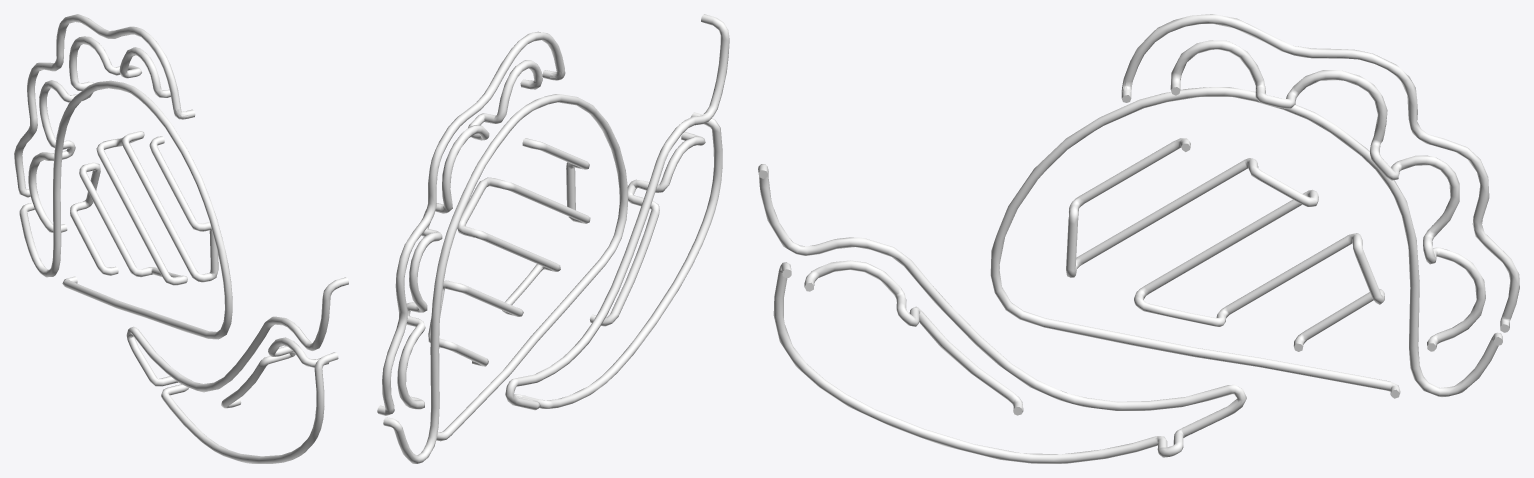
The model's file is SM_LED_Mexicanledfood_01a.fbx.
3 views of the same model, side by side, from view 1: azimuth 30°, elevation 25°; view 2: azimuth 150°, elevation 25°; view 3: azimuth 270°, elevation 25° (orthographic). The views are drawn at different scales.
Parts seen in each view (by area): view 1: SM_LED_Mexicanledfood_01a_LOD0; view 2: SM_LED_Mexicanledfood_01a_LOD0; view 3: SM_LED_Mexicanledfood_01a_LOD0.
Boxes of the visible parts, <box> form: SM_LED_Mexicanledfood_01a_LOD0: <box>14,14,348,463</box>; SM_LED_Mexicanledfood_01a_LOD0: <box>377,14,729,463</box>; SM_LED_Mexicanledfood_01a_LOD0: <box>758,14,1519,463</box>.
Size of the model in its own units: 2.79 by 39.02 by 25.38.
